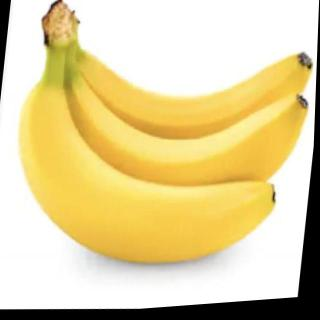banana: (5, 70, 292, 285), (44, 66, 314, 228), (60, 39, 317, 184)
